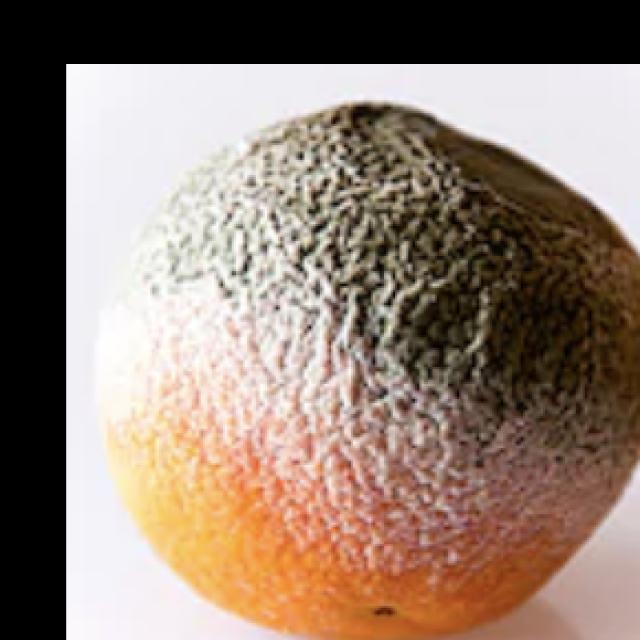sangat-busuk: (98, 102, 639, 637)
